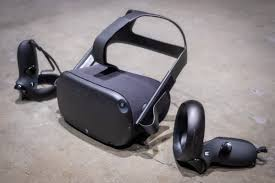oculus: (57, 57, 172, 153)
